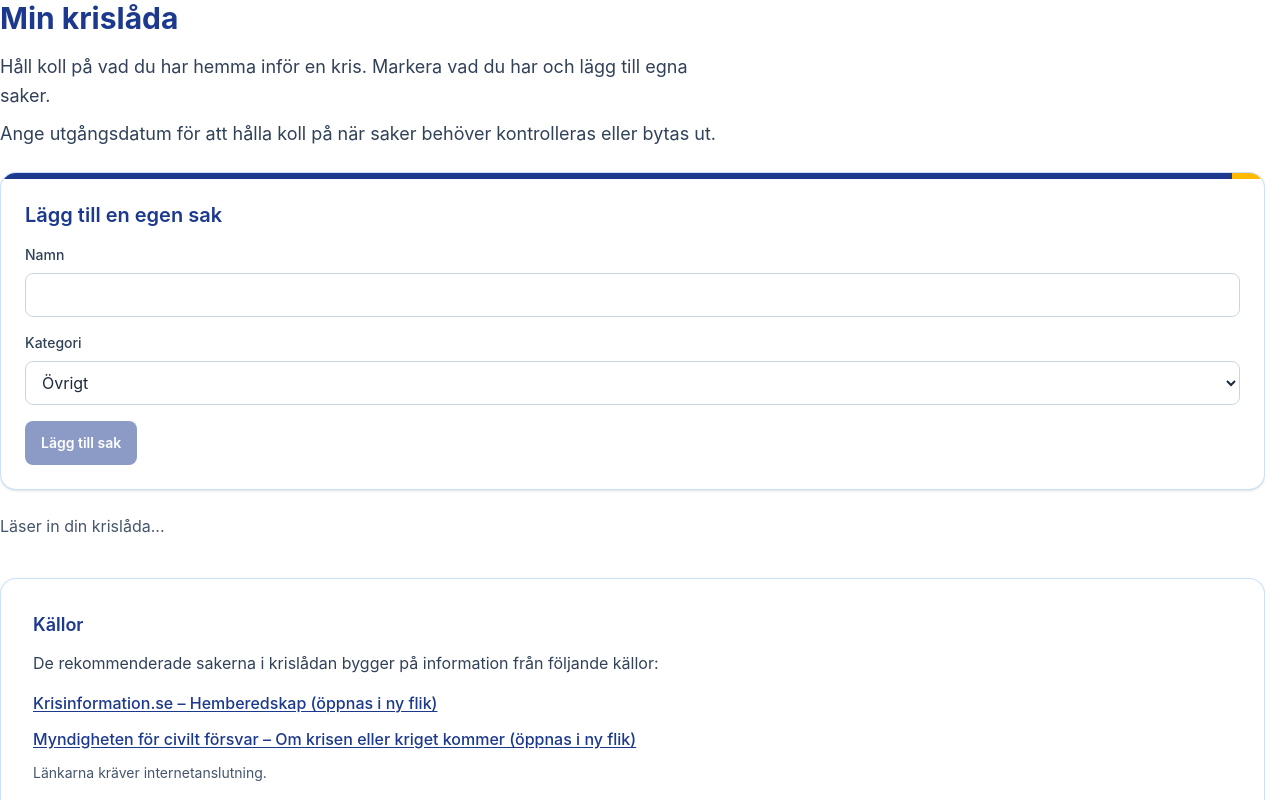
Test: CrisisKitPage custom-item creation › shows a storage error without adding an unsaved item
Type "Nödradio" into the field labelled "Namn" at (632, 295), box [25,273,1240,317]
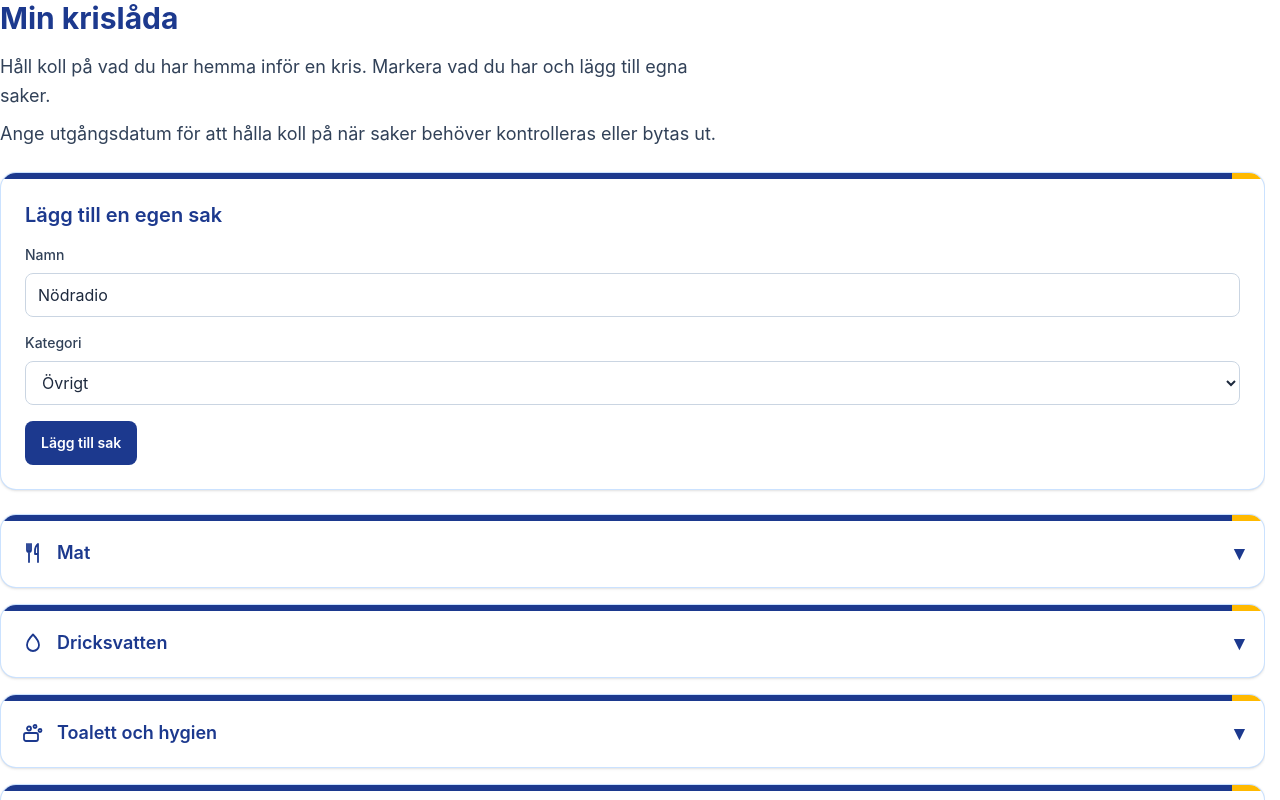
Click the button "Lägg till sak" at (81, 443), box [25,421,137,465]
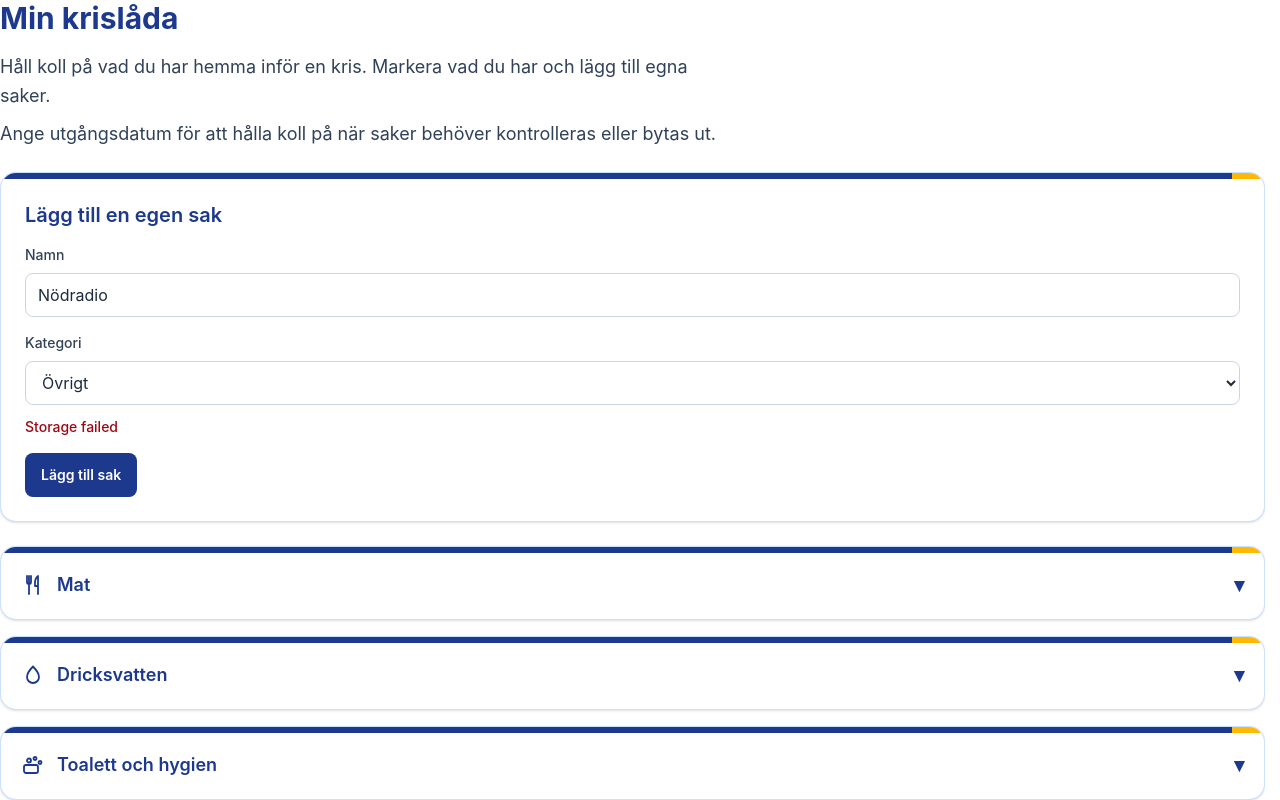
Now the message reads "Storage failed", box [25,418,118,435]
